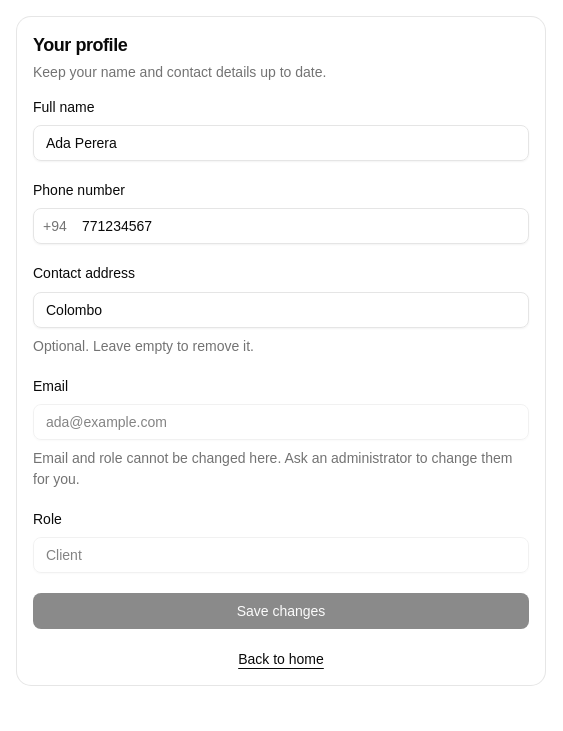
Test: ProfilePage › reports a rejected profile edit
This screenshot has width=563, height=731.
Replace the text in the field labelled "Phone number" with "712345678" at x=281, y=226, box [33, 208, 529, 244]
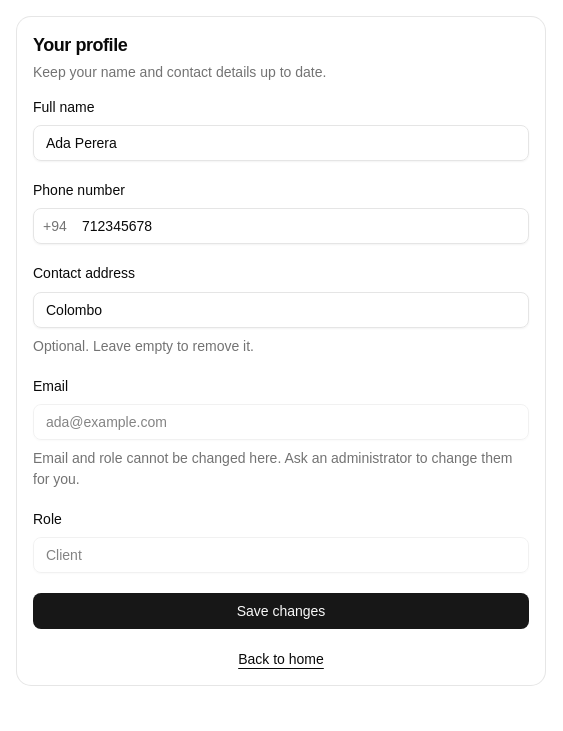
Click the button "Save changes" at x=281, y=611, box [33, 593, 529, 629]
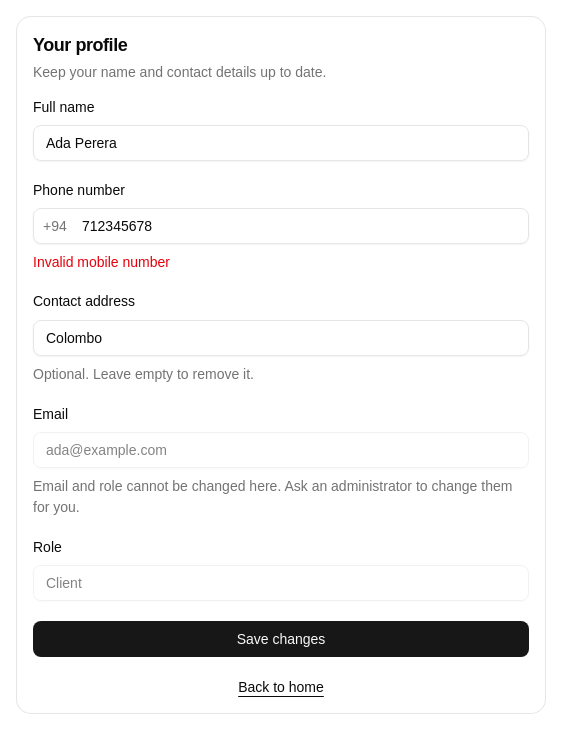
Expected: the text "Invalid mobile number" is shown, [33, 254, 170, 270]
